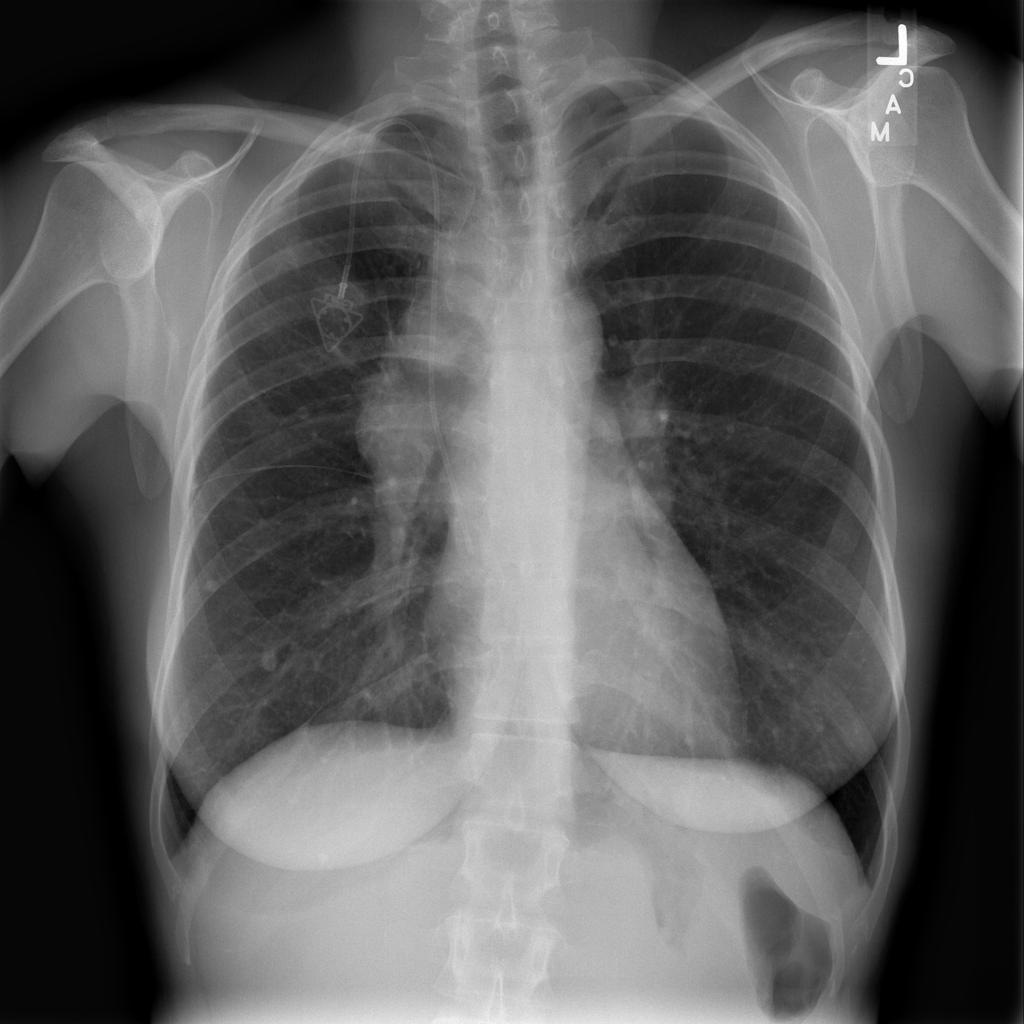nodule: (340, 356, 460, 501), (247, 631, 294, 685), (188, 559, 236, 610)
